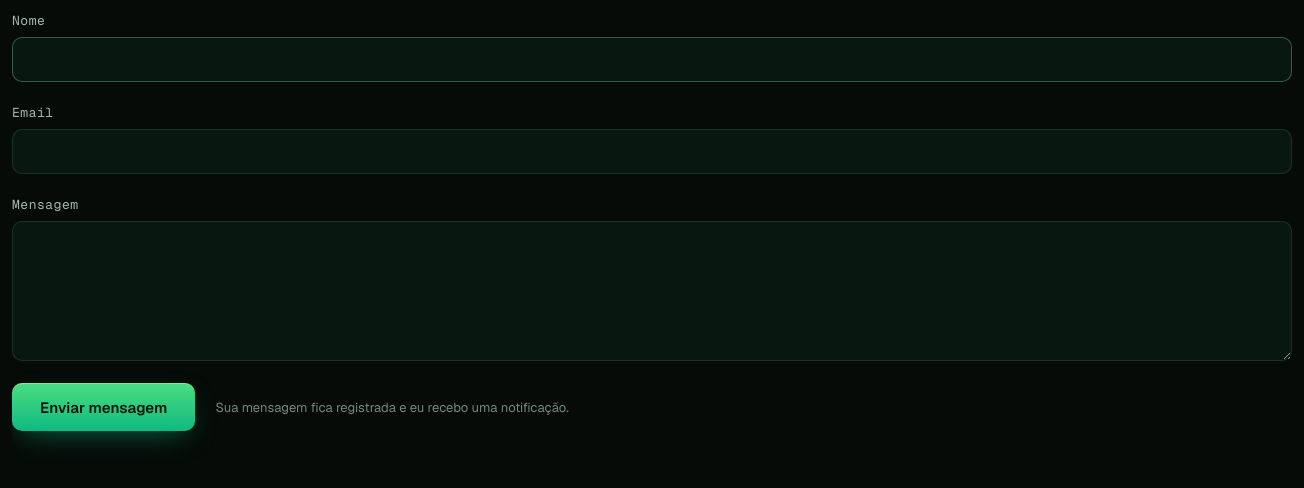
ContactForm › shows a generic error when the request fails
In the field labelled "Nome": coordinates (652, 60) [12,37,1292,82], type "Ana"
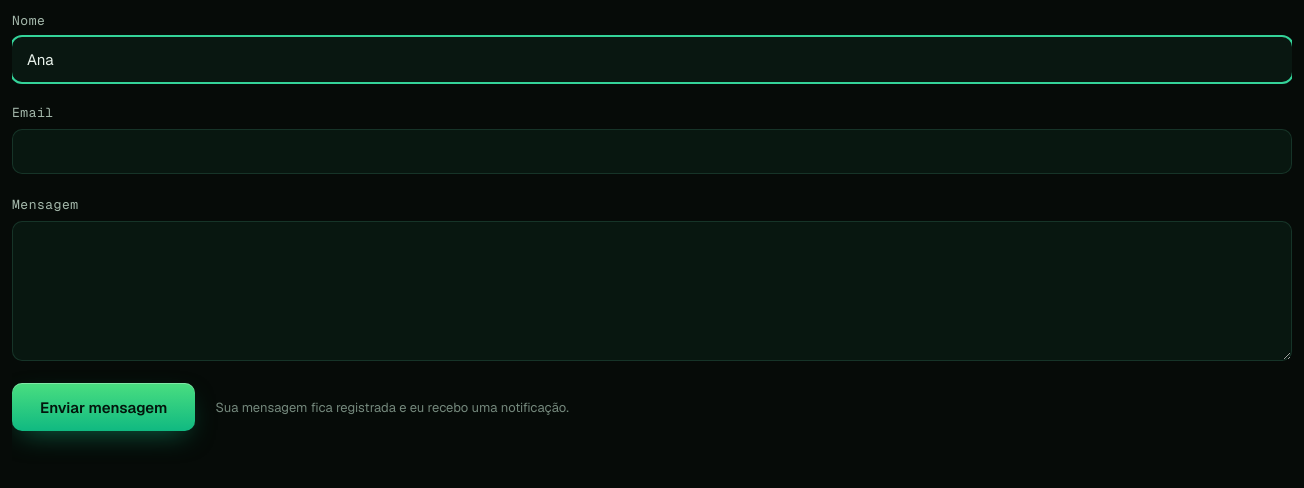
In the field labelled "Email": coordinates (652, 152) [12,129,1292,174], type "ana@example.com"
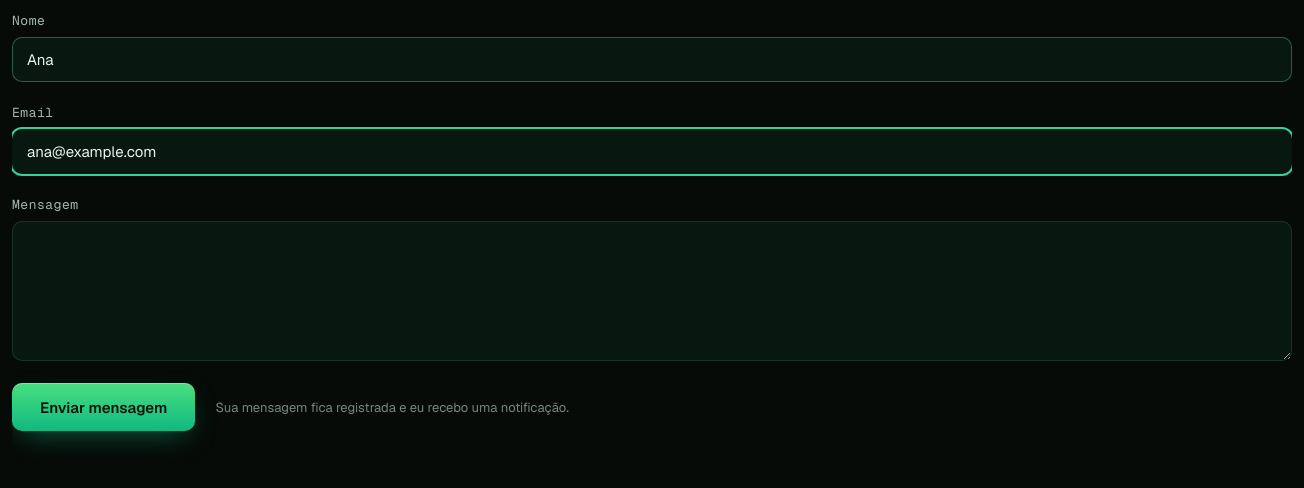
In the text box labelled "Mensagem": coordinates (652, 291) [12,221,1292,361], type "Olá, Victor!"
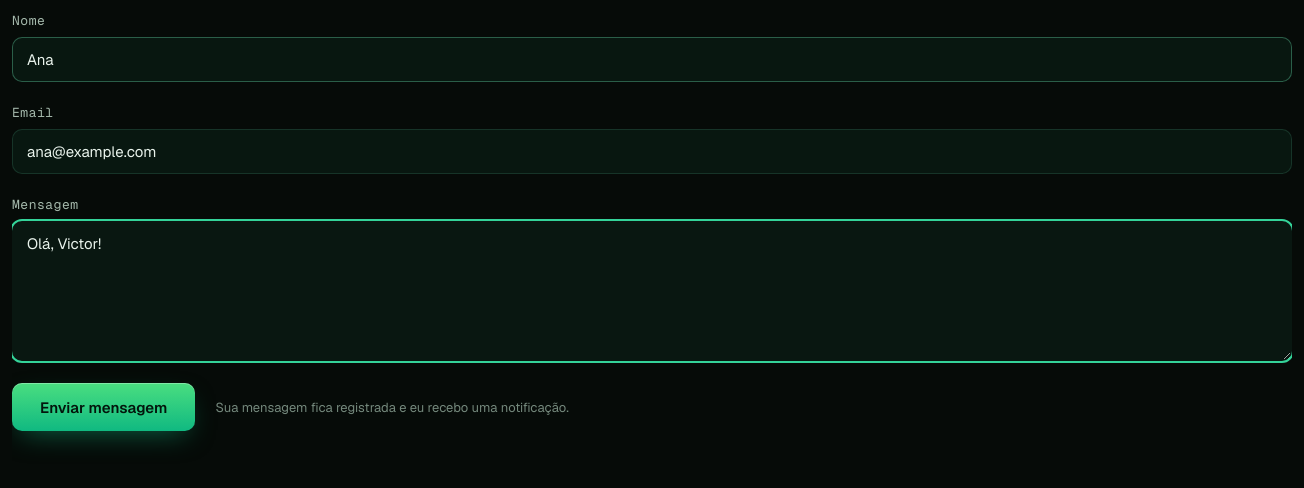
Click the button "Enviar mensagem": coordinates (104, 407) [12,383,195,431]
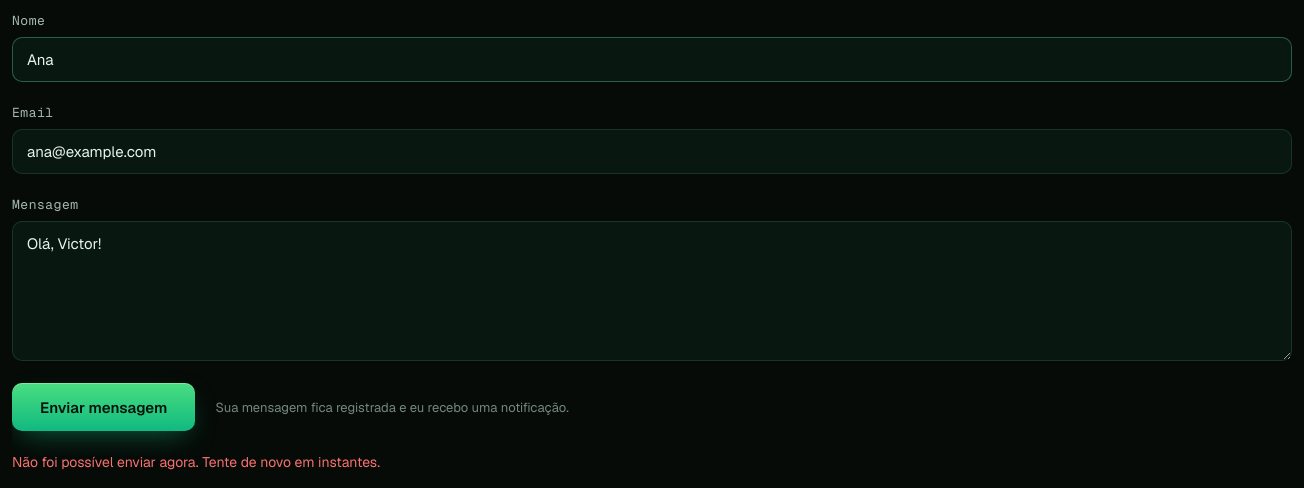
expect the message shows "Não foi possível enviar": met, box [12,453,380,471]
